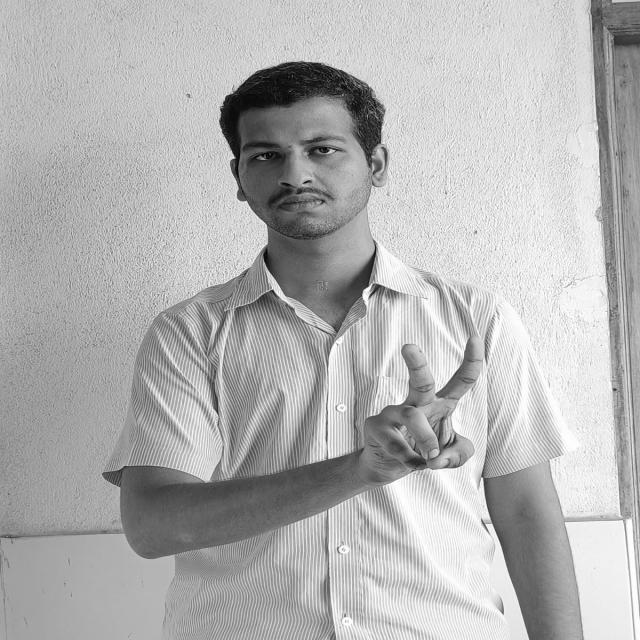Victory: (367, 327, 493, 475)
